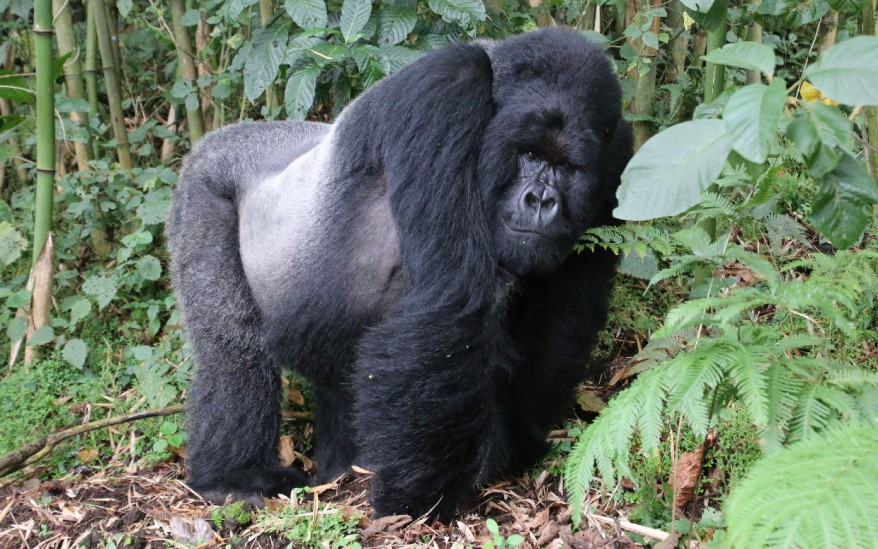Gorilla: (182, 40, 627, 496)
